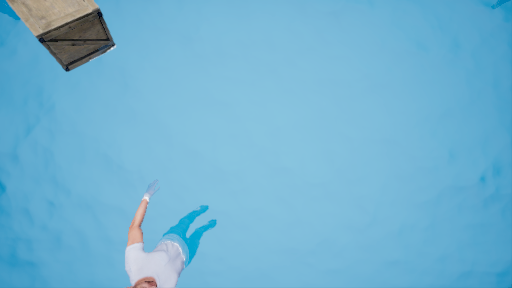person: (118, 183, 225, 287)
